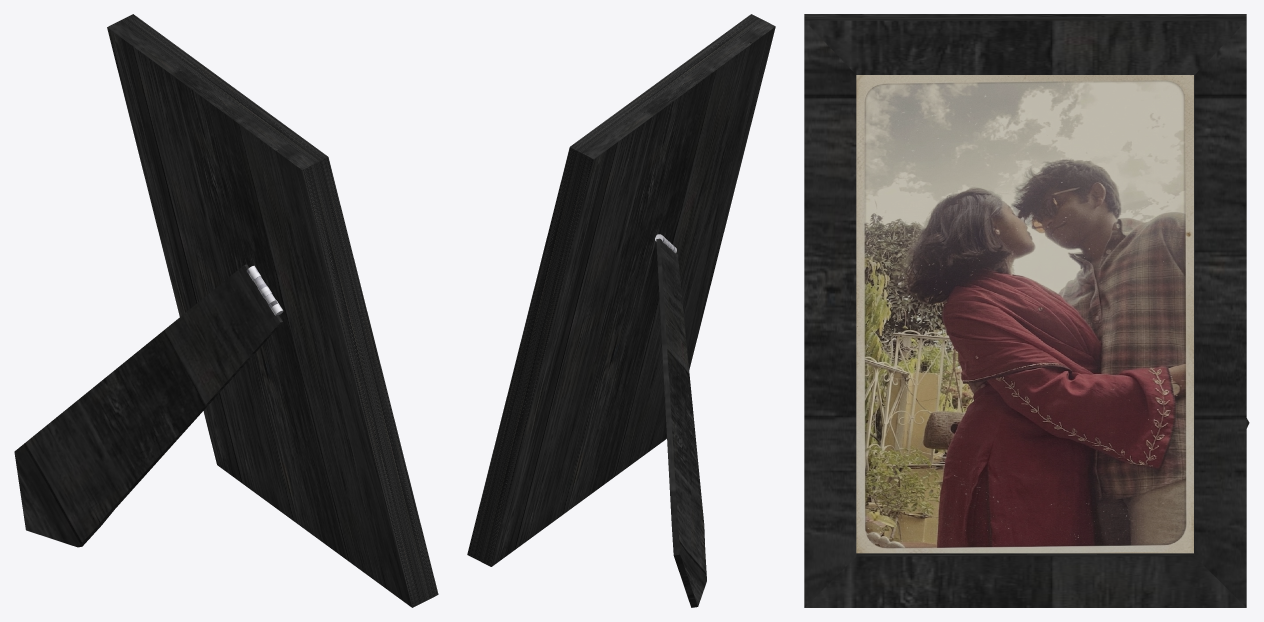
The model's file is photo_frame.glb.
The picture shows the model from 3 angles, left to right: view 1: azimuth 30°, elevation 25°; view 2: azimuth 150°, elevation 25°; view 3: azimuth 270°, elevation 25°; orthographic projection. The views are drawn at different scales.
Parts seen in each view (by area): view 1: Cube_0, Plane; view 2: Cube_0, Plane; view 3: Plane.001, Cube_0.
Part boxes in pixels (box(x1,y1,x2,y2)): Cube_0: box(107, 14, 438, 607); Plane: box(14, 264, 282, 547); Cube_0: box(467, 14, 775, 566); Plane: box(656, 238, 706, 607); Plane.001: box(856, 75, 1193, 553); Cube_0: box(804, 14, 1246, 607).
Size of the model in its own units: 0.5603 by 1.1 by 0.8191.
Materials: 4 (4 with a texture image).
